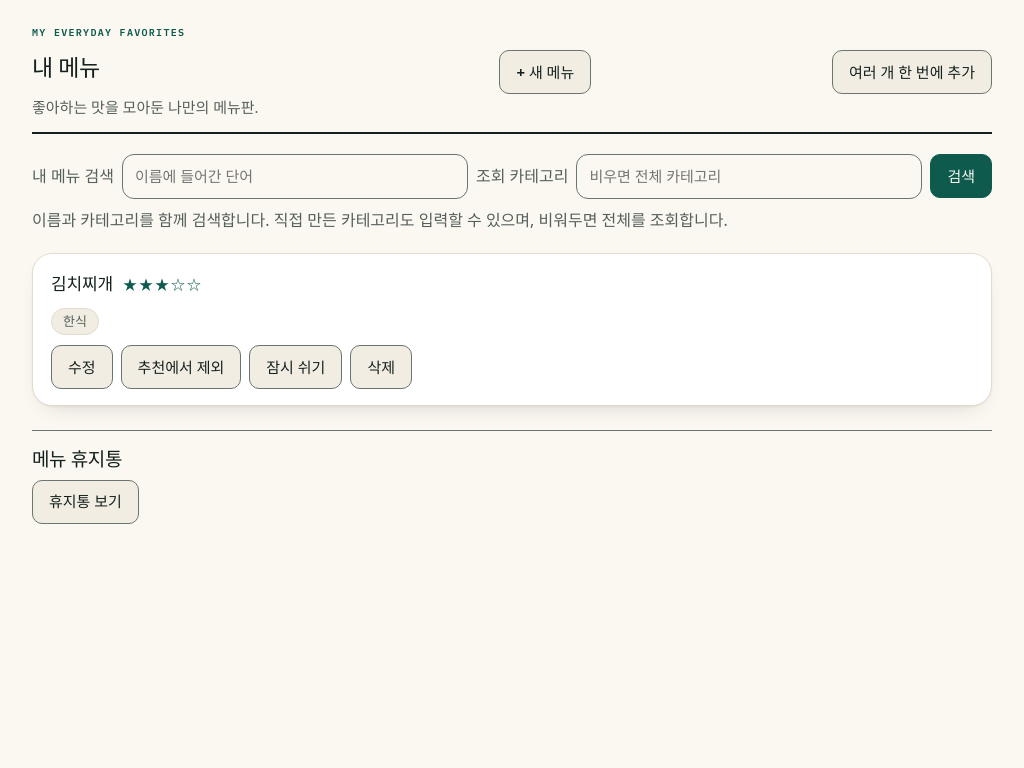
Test: 메뉴 이름 검색 › 검색어를 다음 페이지에도 유지하고 초기화하면 전체 목록을 보여준다
In the search field labelled "내 메뉴 검색": (295, 176) [122,154,468,199], type "  국수  "
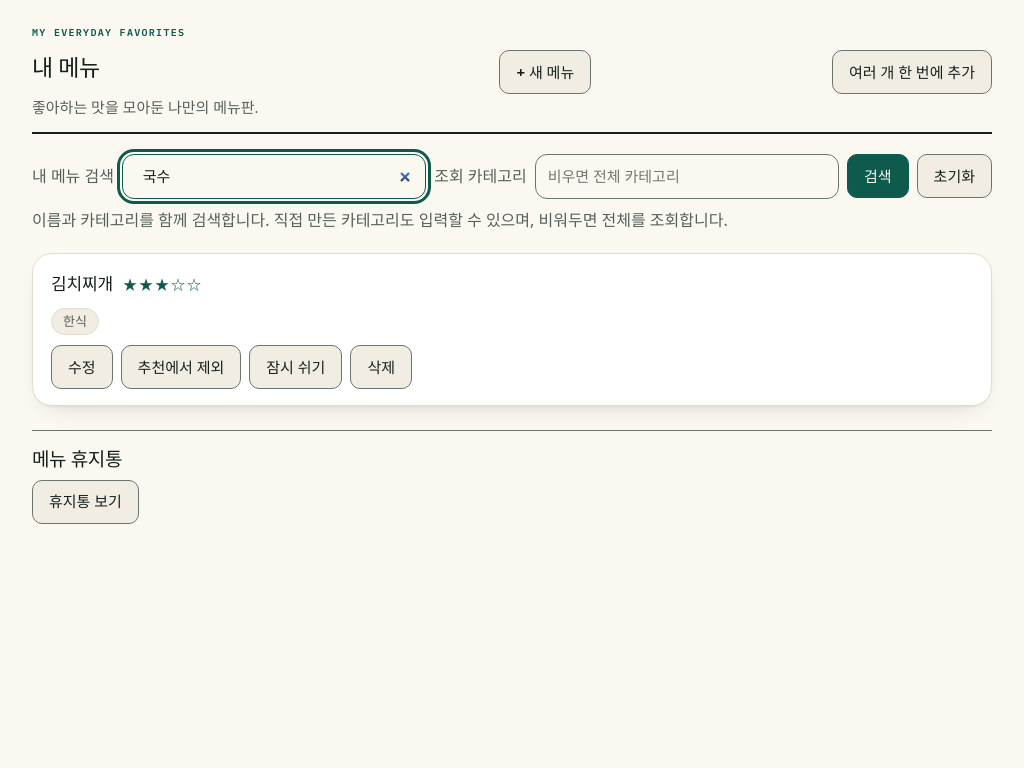
Click the button "검색": (878, 176) [847,154,909,198]
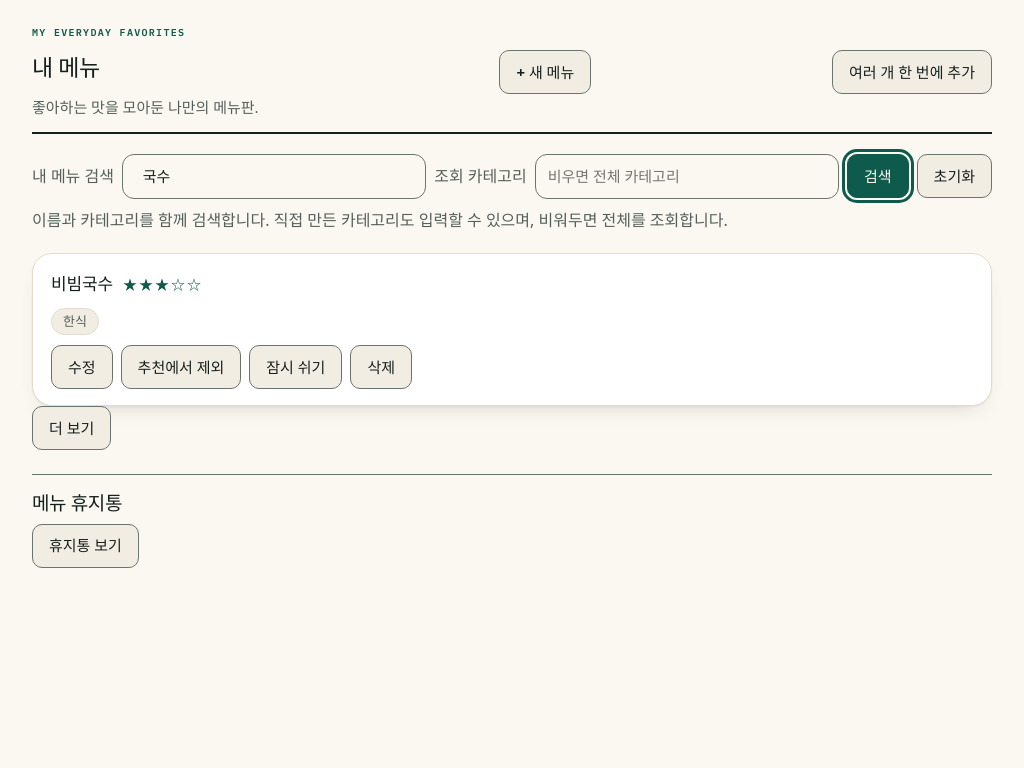
Expected: the text "비빔국수" is shown, [51,270,113,298]
Click the button "더 보기": (72, 428) [32,406,111,450]
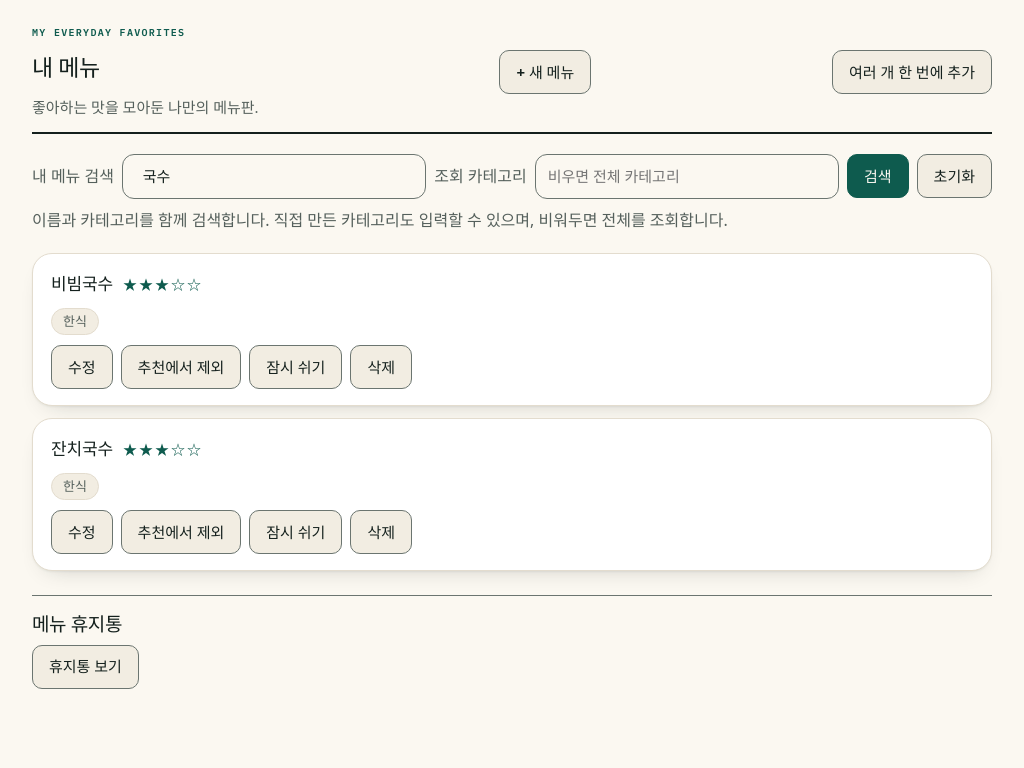
Expected: the text "잔치국수" is shown, [51,435,113,463]
Click the button "초기화": (954, 176) [917,154,992,198]
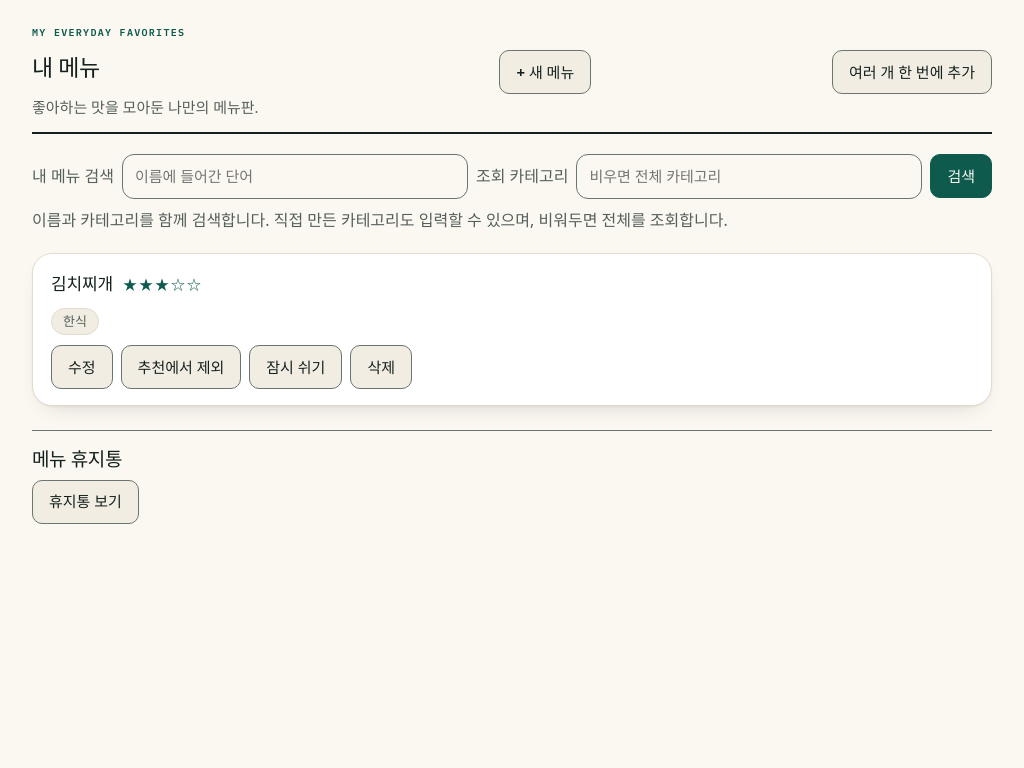
Expected: the text "김치찌개" is shown, [51,270,113,298]
